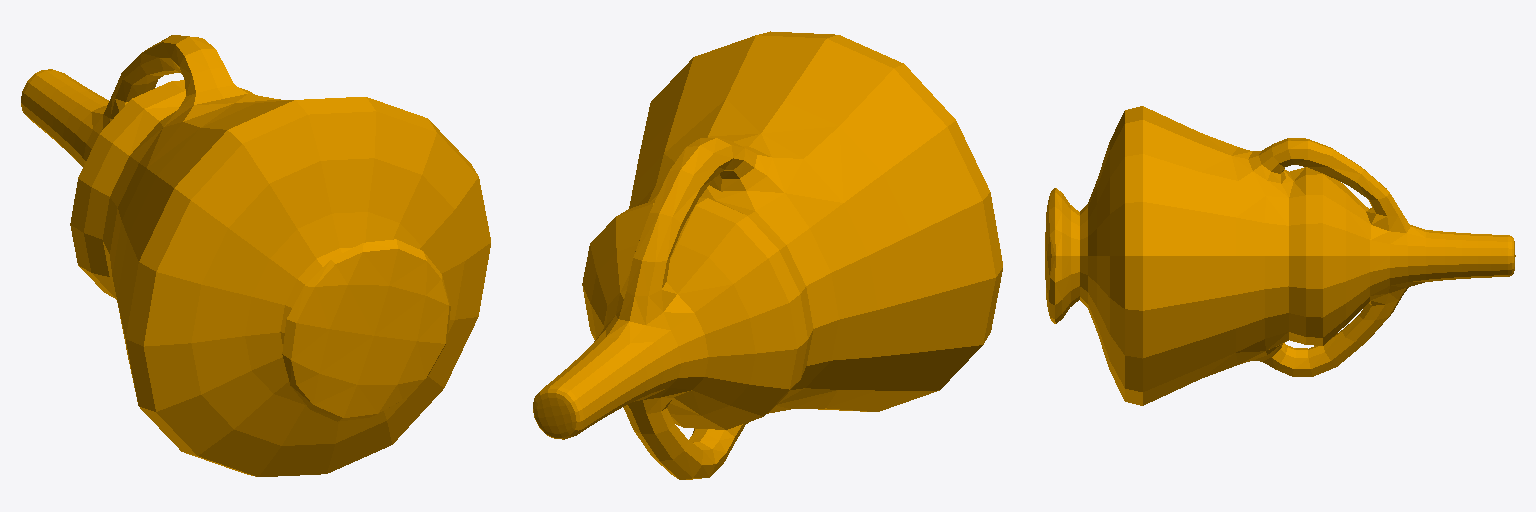
The robot description file, URDF, robot "61":
<?xml version="1.0" ?>
<robot name="61">
  <link name="body">
    <visual>
      <geometry>
        <mesh filename="../shapes/61.obj"/>
      </geometry>
    </visual>
    <collision>
      <geometry>
        <mesh filename="../shapes/61.obj"/>
      </geometry>
    </collision>
  </link>
</robot>

--- Render facts (derived) ---
Views: 3 orthographic renders of the robot side by side, from view 1: azimuth 30°, elevation 25°; view 2: azimuth 150°, elevation 25°; view 3: azimuth 270°, elevation 25°.
Robot: 61 — 1 links, 0 joints (none); root link body; default pose: all joints at 0.
Visible links, largest first — view 1: body; view 2: body; view 3: body.
Link boxes in pixels (bbox=[...]): body: bbox=[21, 35, 490, 476]; body: bbox=[533, 31, 1002, 479]; body: bbox=[1045, 106, 1515, 405].
Bounding box of the posed robot: 5.21 × 8.36 × 5.21 m (x, y, z).
Meshes: 1 distinct files referenced, 1 mesh visuals loaded (1 OBJ).